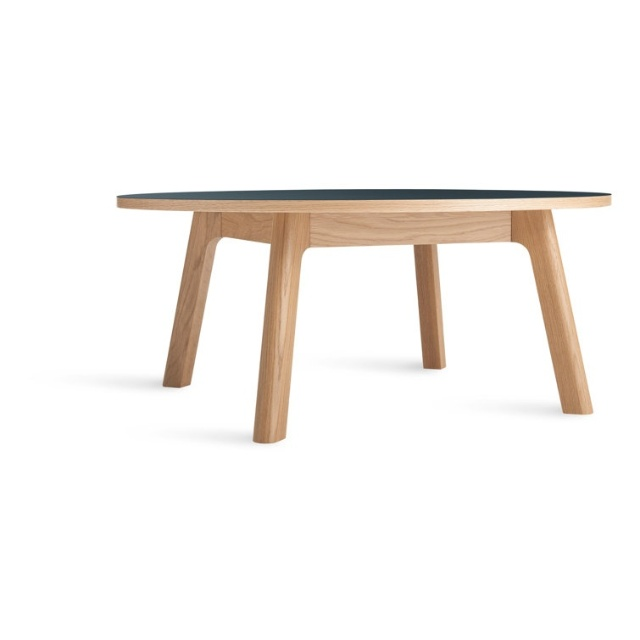obstacle: (117, 189, 610, 442)
